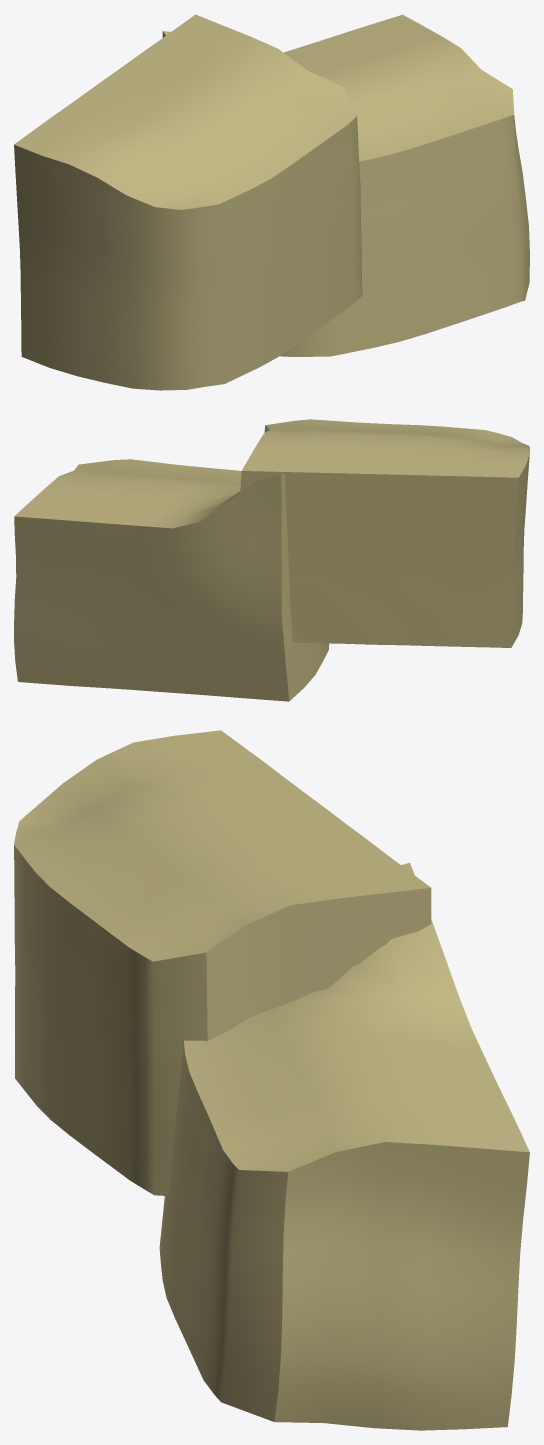
File: more mountain.fbx
The picture shows the model from 3 angles, top to bottom: view 1: azimuth 30°, elevation 25°; view 2: azimuth 150°, elevation 25°; view 3: azimuth 270°, elevation 25°; orthographic projection. The views are drawn at different scales.
Visible parts, largest first — view 1: Plane.008, Plane.009; view 2: Plane.009, Plane.008; view 3: Plane.009, Plane.008.
Boxes of the visible parts, x1=… form: Plane.008: x1=14, y1=14, x2=362, y2=390; Plane.009: x1=162, y1=14, x2=529, y2=356; Plane.009: x1=14, y1=459, x2=329, y2=701; Plane.008: x1=240, y1=419, x2=529, y2=647; Plane.009: x1=159, y1=862, x2=529, y2=1430; Plane.008: x1=14, y1=730, x2=431, y2=1195.
Size of the model in its own units: 9666 by 5211 by 6328.
